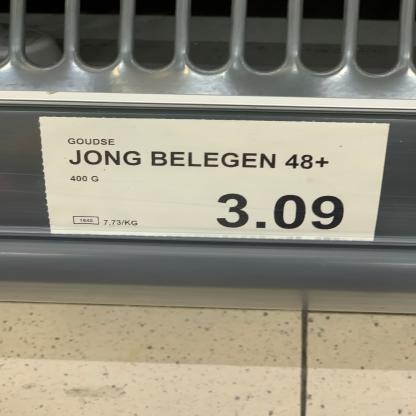prtg: (40, 117, 391, 243)
